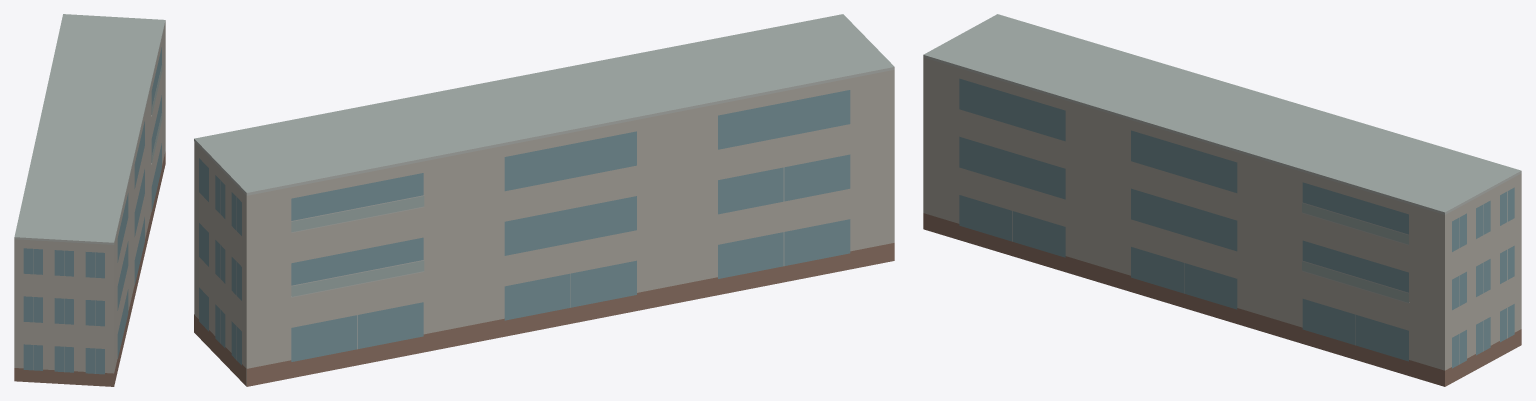
The model's file is survey-upis-32829815.glb.
3 renders of one model, left to right at view 1: azimuth 30°, elevation 25°; view 2: azimuth 150°, elevation 25°; view 3: azimuth 270°, elevation 25°, orthographic. The views are drawn at different scales.
Parts seen in each view (by area): view 1: survey-upis-32829815.tmp; view 2: survey-upis-32829815.tmp; view 3: survey-upis-32829815.tmp.
Boxes of the visible parts, left/top/right/bottom form: survey-upis-32829815.tmp: left=14, top=14, right=165, bottom=386; survey-upis-32829815.tmp: left=194, top=14, right=894, bottom=386; survey-upis-32829815.tmp: left=923, top=14, right=1521, bottom=386.
Bounding box in the file's own units: 40.49 × 16.6 × 51.6.
